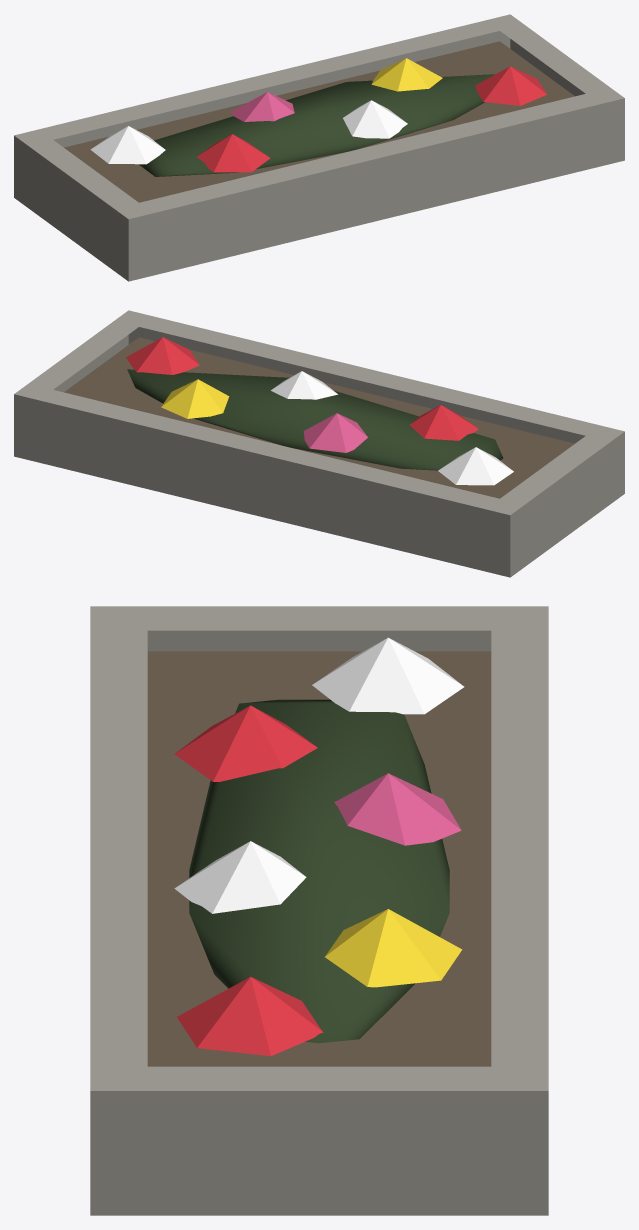
Rendered from site_flower2.fbx.
3 views of the same model, one above another, from view 1: azimuth 30°, elevation 25°; view 2: azimuth 150°, elevation 25°; view 3: azimuth 270°, elevation 25° (orthographic). The views are drawn at different scales.
Visible parts, largest first — view 1: a3004/0/site_flower2; view 2: a3004/0/site_flower2; view 3: a3004/0/site_flower2.
Boxes of the visible parts, x1,y1,x2,y2 form: a3004/0/site_flower2: (14,14,624,281); a3004/0/site_flower2: (14,310,624,577); a3004/0/site_flower2: (90,606,548,1215).
Bounding box in the file's own units: 3 × 0.48 × 1.2.
